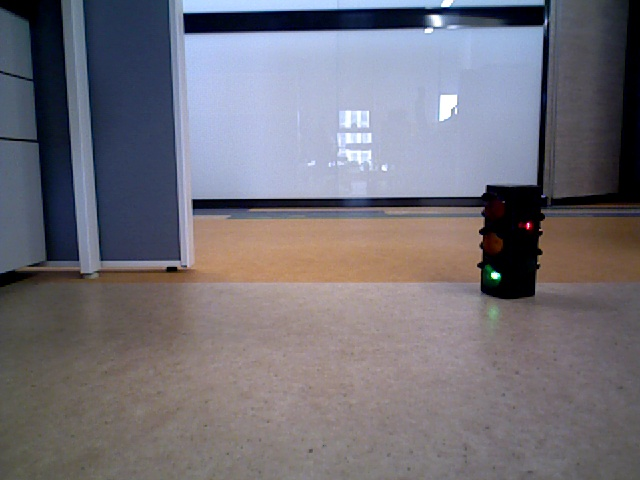green: (483, 190, 536, 290)
